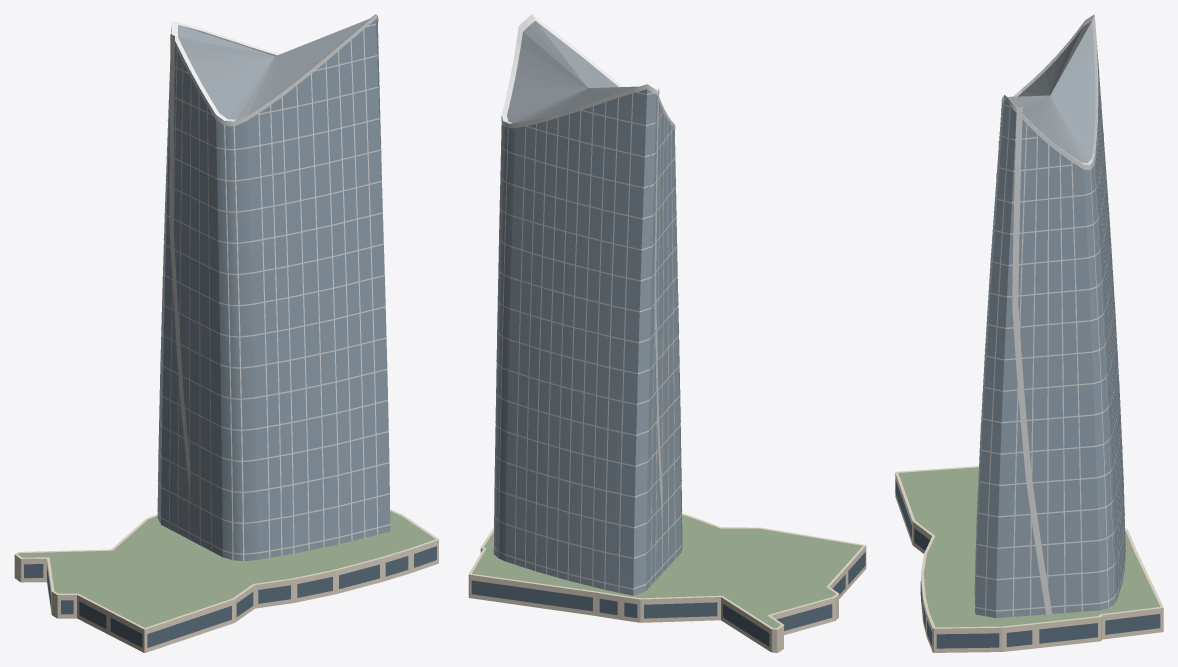
Rendered from tokyo-toranomon-hills-mori-tower.glb.
3 renders of one model, left to right at view 1: azimuth 30°, elevation 25°; view 2: azimuth 150°, elevation 25°; view 3: azimuth 270°, elevation 25°, orthographic. The views are drawn at different scales.
Parts seen in each view (by area): view 1: Toranomon Hills Mori Tower; view 2: Toranomon Hills Mori Tower; view 3: Toranomon Hills Mori Tower.
Part boxes in pixels (x1=…): Toranomon Hills Mori Tower: x1=14, y1=14, x2=439, y2=652; Toranomon Hills Mori Tower: x1=468, y1=14, x2=866, y2=652; Toranomon Hills Mori Tower: x1=895, y1=14, x2=1163, y2=652.
Size of the model in its own units: 168 by 247 by 111.
